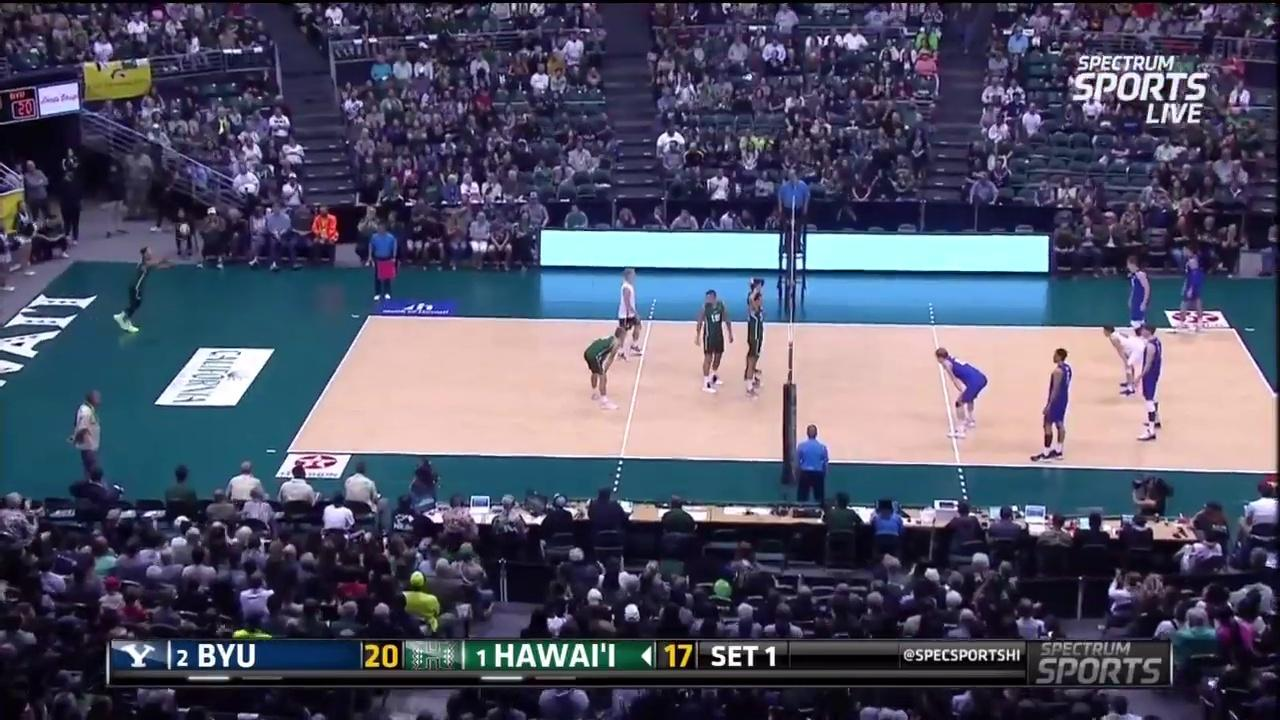player: (1131, 323, 1174, 451), (933, 348, 985, 437), (117, 241, 160, 339), (1096, 322, 1146, 402), (1037, 351, 1073, 459), (694, 288, 728, 394), (605, 270, 644, 361), (1116, 251, 1154, 341), (1174, 241, 1208, 341), (584, 324, 624, 406), (740, 294, 768, 403), (742, 278, 768, 373)
refree: (795, 421, 832, 509), (776, 166, 812, 251), (368, 218, 398, 301)
